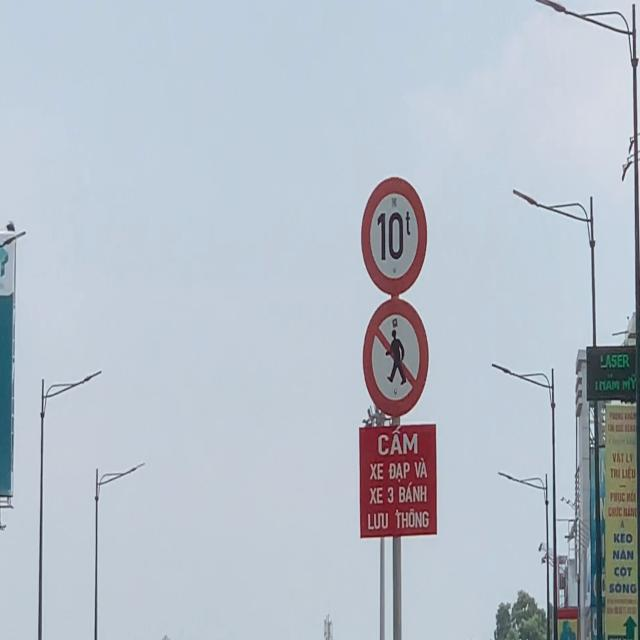Cam con lai: (359, 301, 430, 415)
Trong tai toi da: (361, 180, 427, 296)
